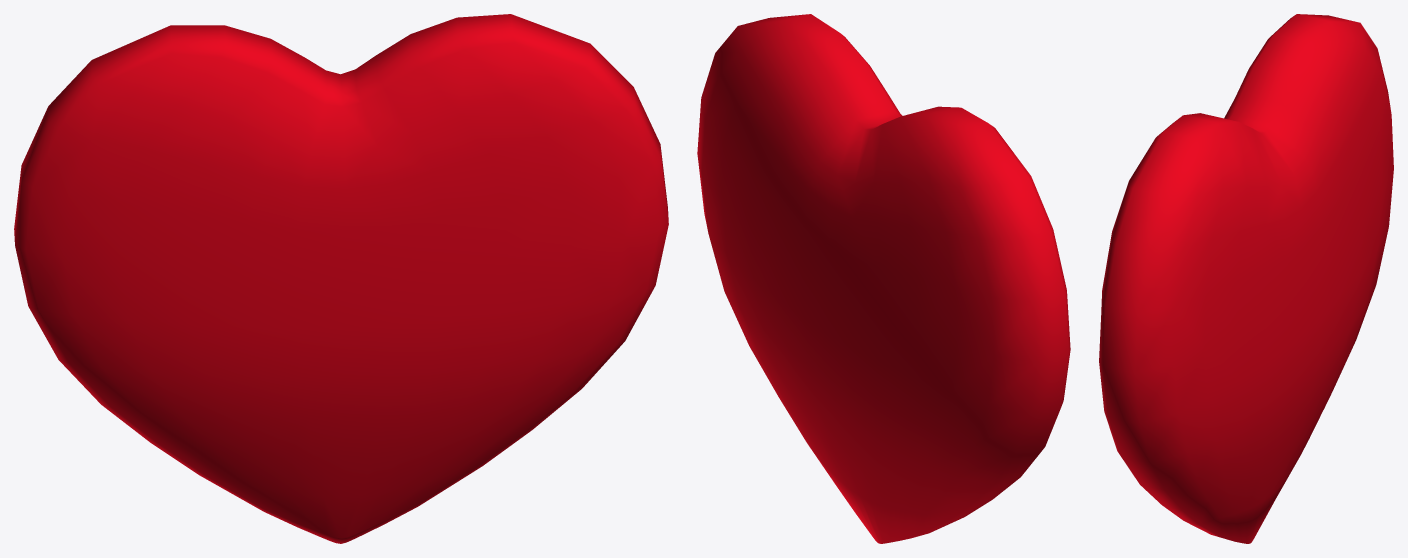
Rendered from heart.fbx.
The picture shows the model from 3 angles, left to right: view 1: azimuth 30°, elevation 25°; view 2: azimuth 150°, elevation 25°; view 3: azimuth 270°, elevation 25°; orthographic projection. The views are drawn at different scales.
Visible parts, largest first — view 1: heart.024; view 2: heart.024; view 3: heart.024.
Boxes of the visible parts, x1,y1,x2,y2 form: heart.024: [14, 14, 668, 543]; heart.024: [697, 14, 1070, 543]; heart.024: [1099, 14, 1393, 543].
Size of the model in its own units: 79.94 by 74.05 by 42.57.
